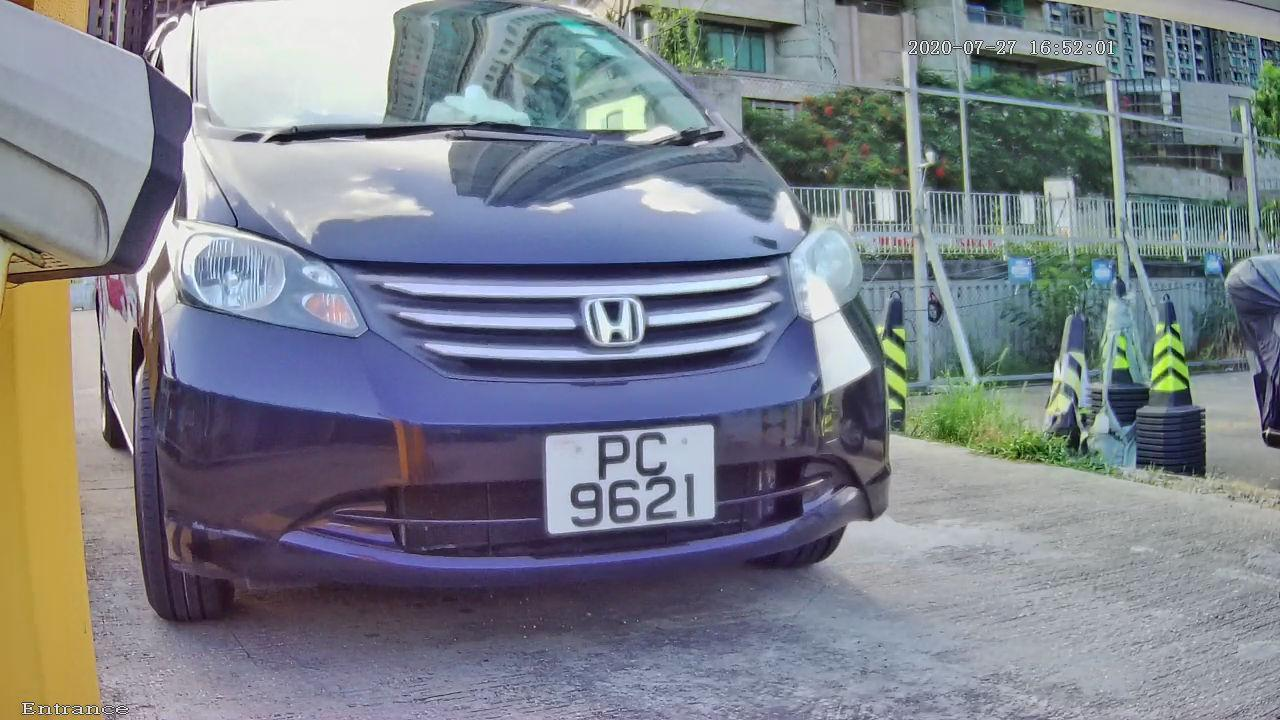privatecar: (41, 26, 1001, 640)
